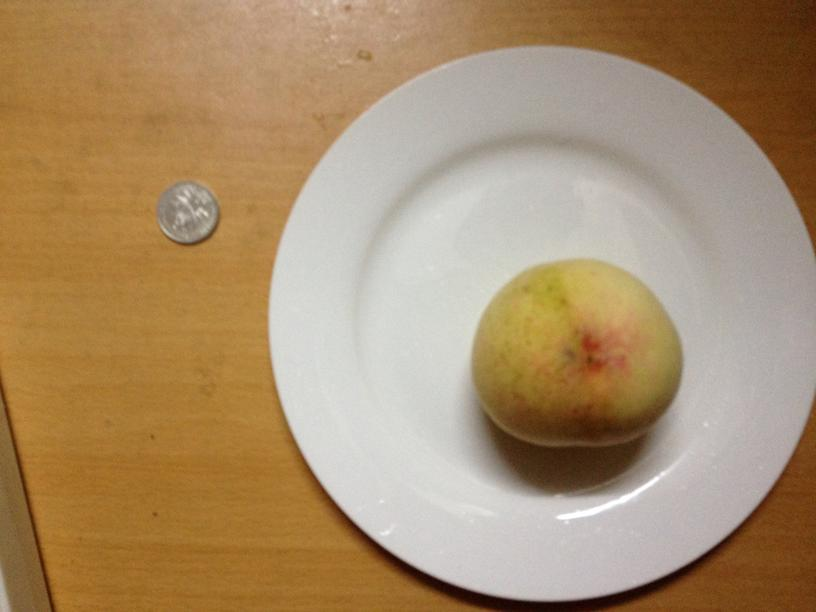coin: (154, 182, 220, 245)
peach: (475, 260, 683, 445)
